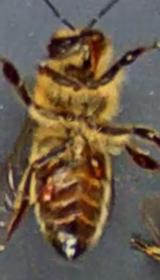varroa_mite: (36, 174, 68, 200), (82, 154, 103, 173)
